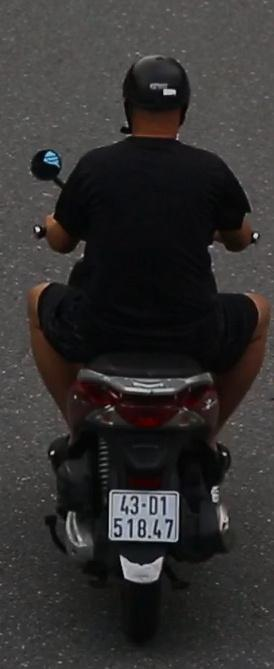LP: (97, 480, 189, 553)
helmet: (114, 43, 195, 143)
